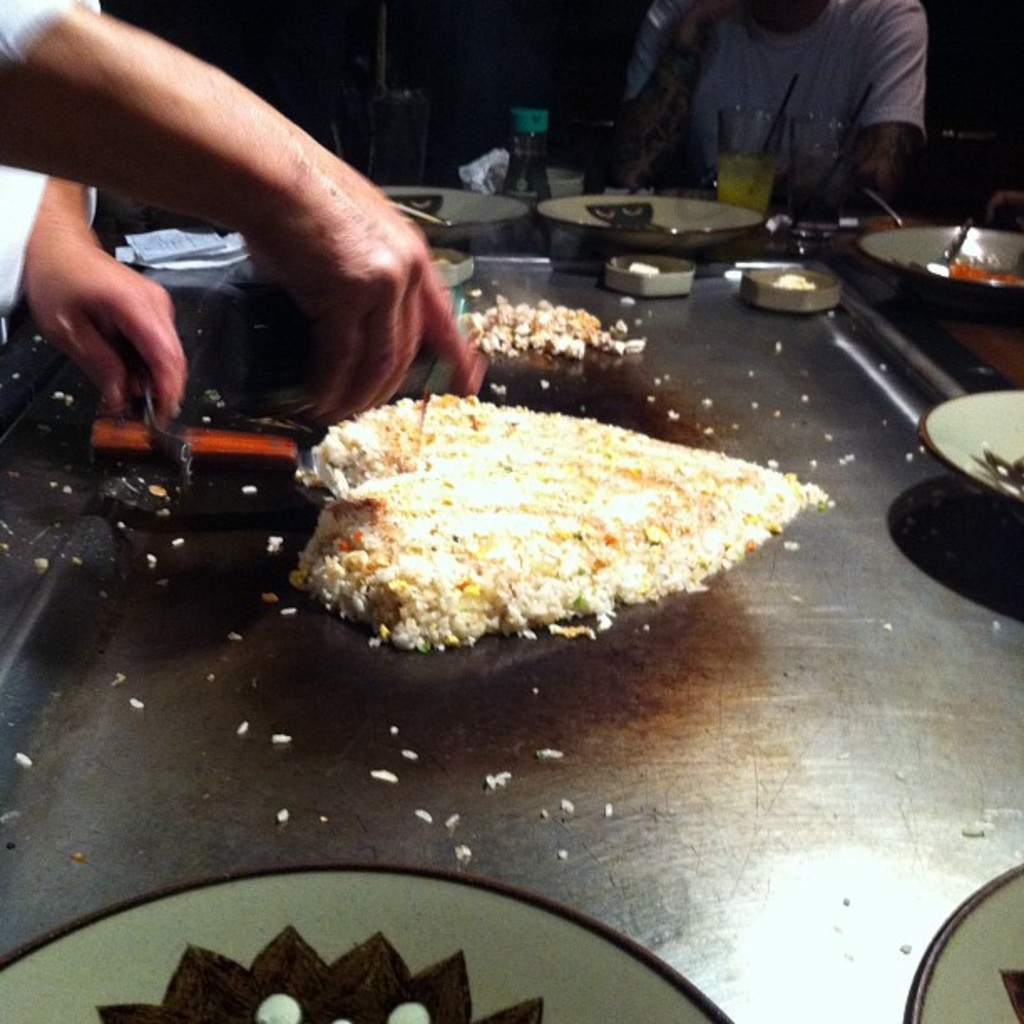Person: (612, 0, 928, 206)
